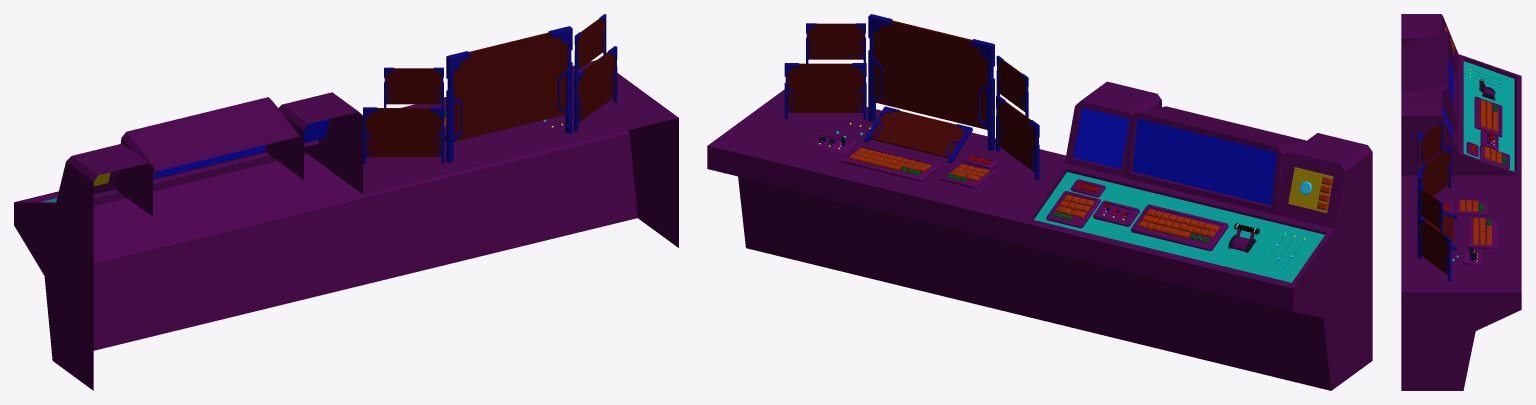
3 views of the same model, side by side, from view 1: azimuth 30°, elevation 25°; view 2: azimuth 150°, elevation 25°; view 3: azimuth 270°, elevation 25° (orthographic). The views are drawn at different scales.
Visible parts, largest first — view 1: Ship_Computer_Table, Box136; view 2: Ship_Computer_Table, Box136, Ship_Computer_Buttons002; view 3: Ship_Computer_Table, Box136, Ship_Computer_Buttons002.
Boxes of the visible parts, x1,y1,x2,y2 form: Ship_Computer_Table: [14, 60, 678, 390]; Box136: [363, 14, 617, 163]; Ship_Computer_Table: [707, 81, 1372, 390]; Box136: [784, 14, 1039, 188]; Ship_Computer_Buttons002: [1046, 177, 1332, 259]; Ship_Computer_Table: [1401, 14, 1521, 390]; Box136: [1417, 121, 1496, 281]; Ship_Computer_Buttons002: [1445, 27, 1509, 169].
Bounding box in the file's own units: 407 × 156 × 95.83.
